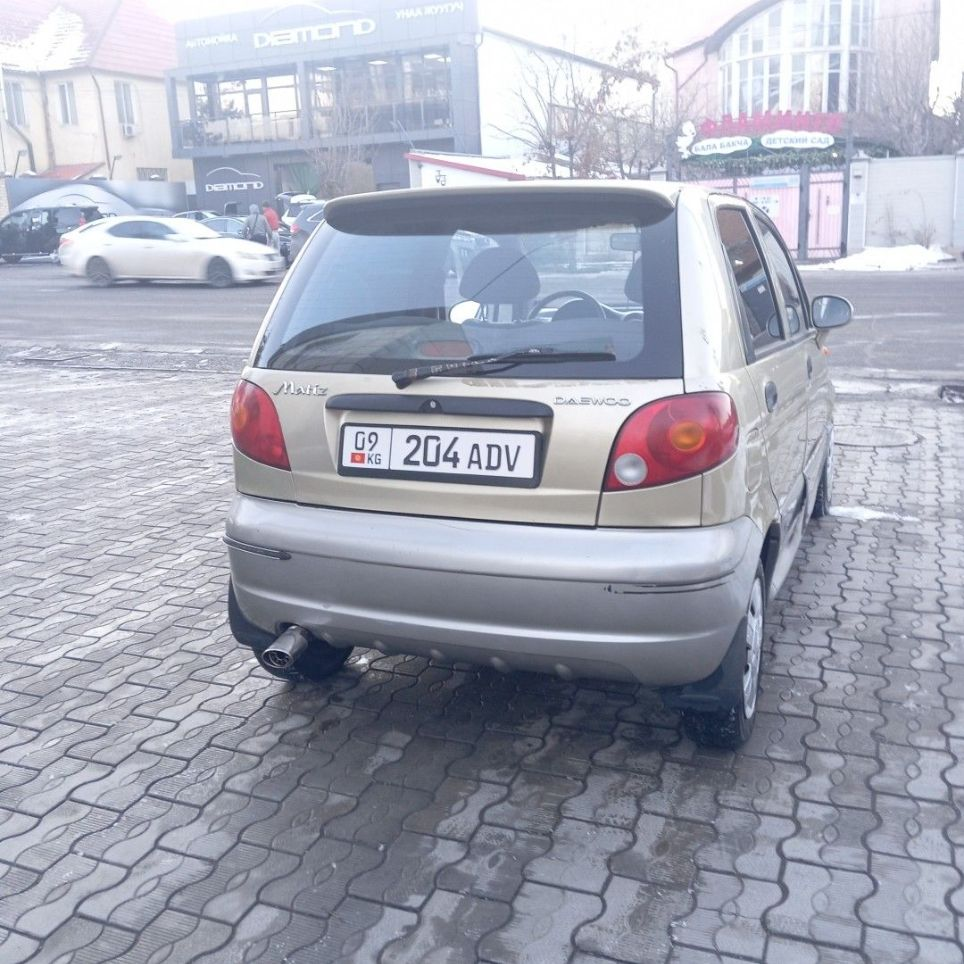license plate: (340, 421, 538, 483)
truck: (214, 182, 852, 751)
